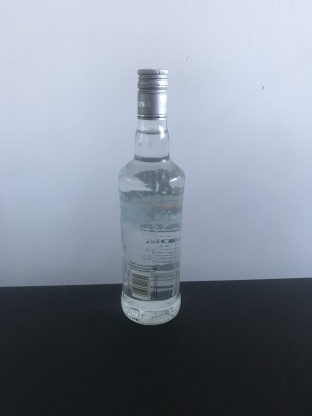nakretka: (135, 67, 170, 122)
